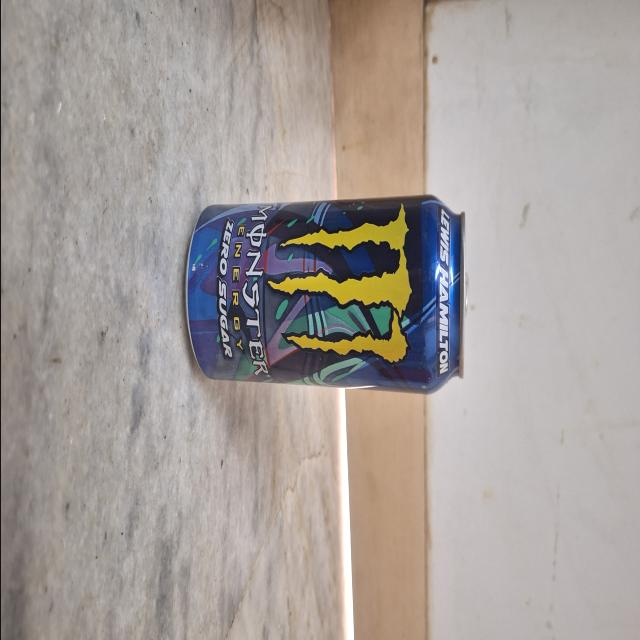Monster LH44: (175, 176, 486, 412)
